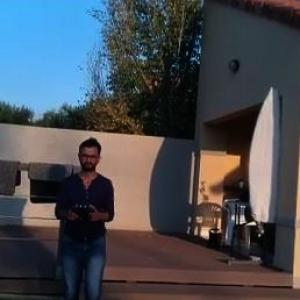follow: (51, 130, 122, 299)
